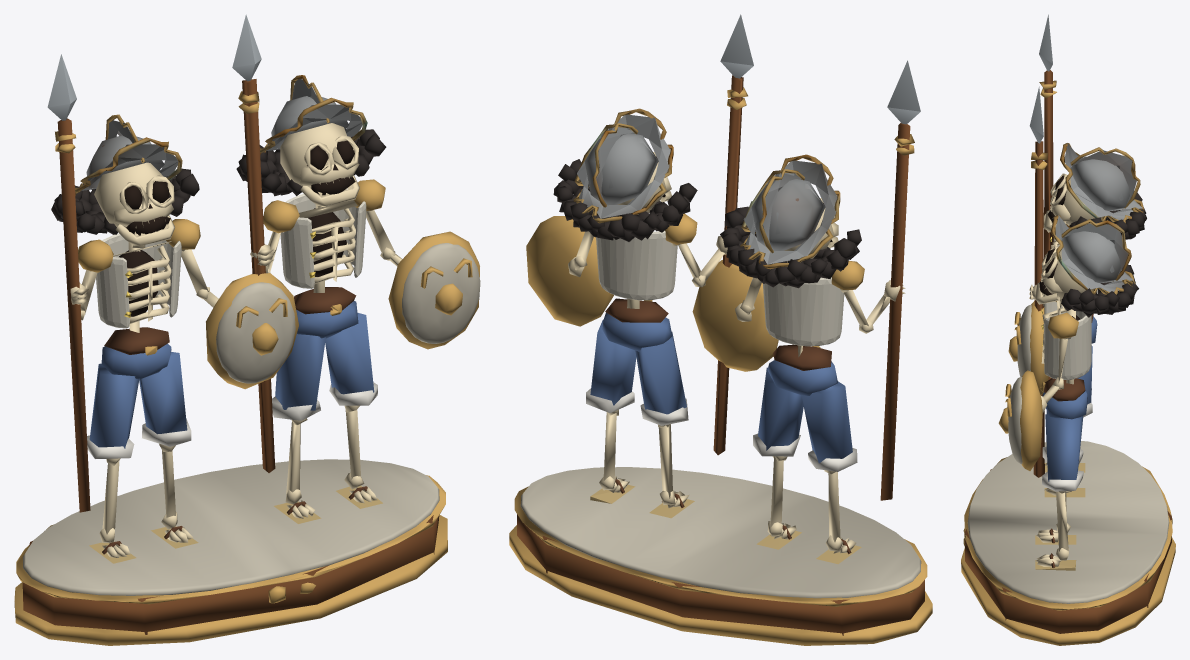
File: pirate_helmet_knight_l2.glb
3 renders of one model, left to right at view 1: azimuth 30°, elevation 25°; view 2: azimuth 150°, elevation 25°; view 3: azimuth 270°, elevation 25°, orthographic. The views are drawn at different scales.
Visible parts, largest first — view 1: FixedDetails, WoodBody, BrassTrim; view 2: FixedDetails, WoodBody, BrassTrim; view 3: FixedDetails, WoodBody, BrassTrim.
Part boxes in pixels (<box>): FixedDetails: <box>22,14,439,634</box>; WoodBody: <box>23,194,480,595</box>; BrassTrim: <box>14,75,479,645</box>; FixedDetails: <box>517,14,924,635</box>; WoodBody: <box>520,230,921,598</box>; BrassTrim: <box>509,87,932,645</box>; FixedDetails: <box>965,14,1171,633</box>; WoodBody: <box>967,235,1169,603</box>; BrassTrim: <box>961,80,1175,645</box>.
Size of the model in its own units: 0.4513 by 0.5713 by 0.2342.
